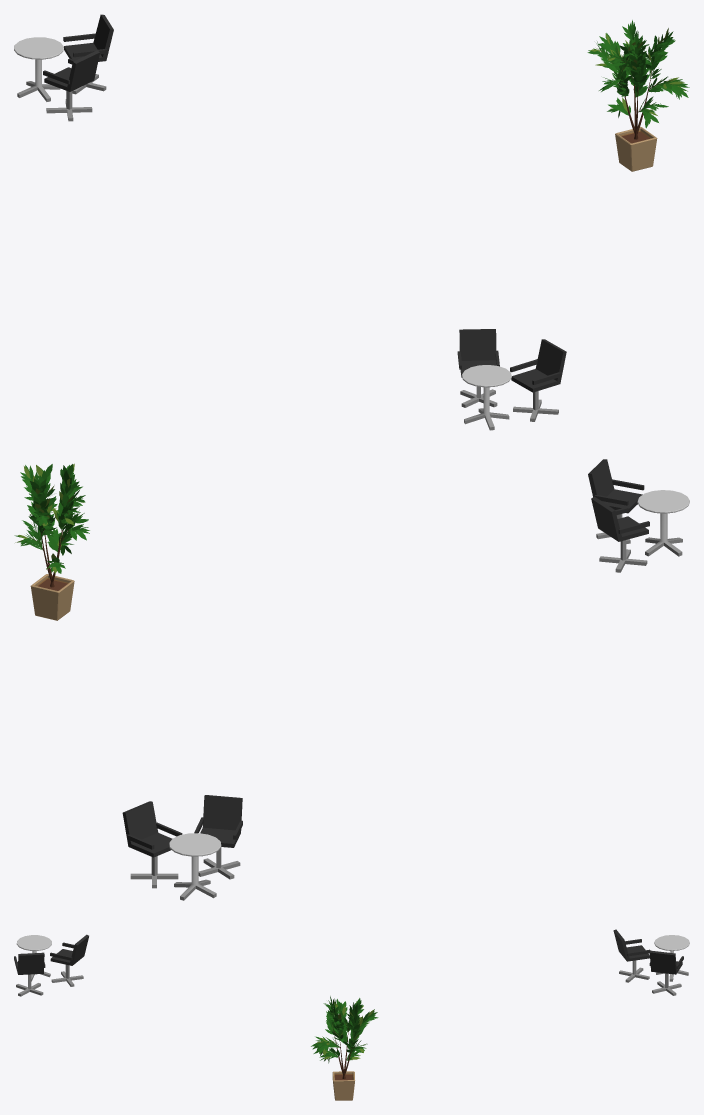
Rendered from d-roomcomp-d-conferenceroom-in.glb.
The picture shows the model from 3 angles, top to bottom: view 1: azimuth 30°, elevation 25°; view 2: azimuth 150°, elevation 25°; view 3: azimuth 270°, elevation 25°; orthographic projection. The views are drawn at different scales.
Visible parts, largest first — view 1: plantBushyFernyBig.003, table_chair.005, table_chair.004; view 2: table_chair.004, plantBushyFernyBig.003, table_chair.005; view 3: plantBushyFernyBig.003, table_chair.004, table_chair.005.
Boxes of the visible parts, x1=… form: plantBushyFernyBig.003: x1=587, y1=20, x2=689, y2=171; table_chair.005: x1=457, y1=329, x2=566, y2=430; table_chair.004: x1=14, y1=14, x2=113, y2=121; table_chair.004: x1=122, y1=795, x2=242, y2=900; plantBushyFernyBig.003: x1=14, y1=463, x2=89, y2=620; table_chair.005: x1=588, y1=459, x2=689, y2=572; plantBushyFernyBig.003: x1=311, y1=996, x2=378, y2=1100; table_chair.004: x1=613, y1=929, x2=689, y2=995; table_chair.005: x1=14, y1=934, x2=88, y2=996.
Size of the model in its own units: 9.88 by 3.25 by 19.1.
1 material, 1 textured.
